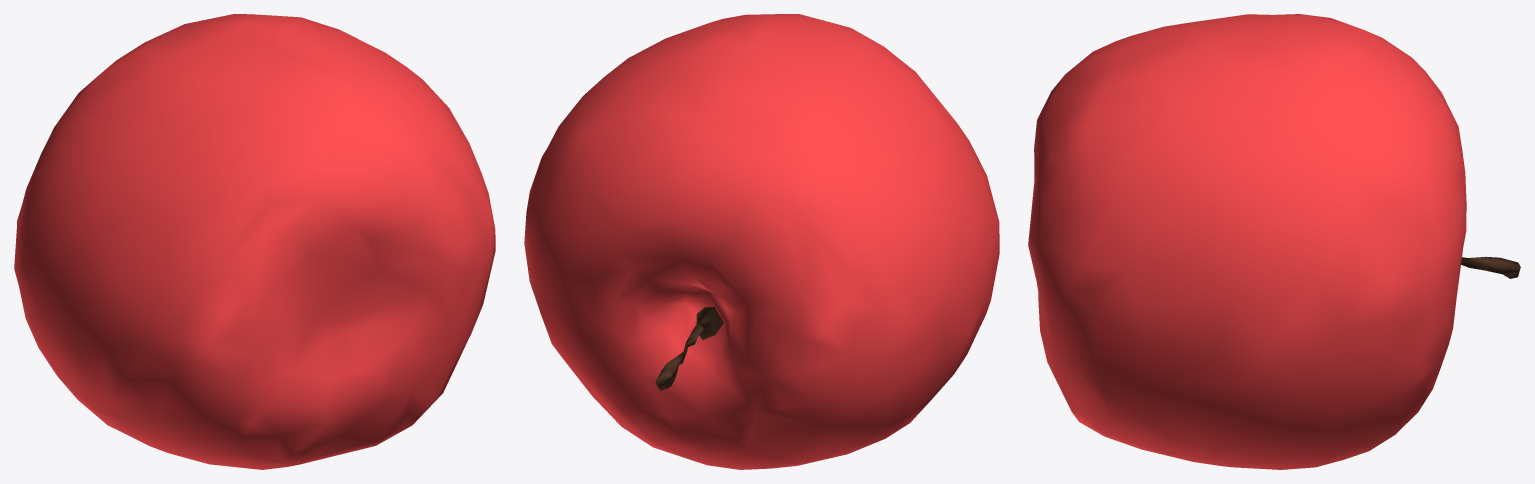
The model's file is ToyObject_198.fbx.
The picture shows the model from 3 angles, left to right: view 1: azimuth 30°, elevation 25°; view 2: azimuth 150°, elevation 25°; view 3: azimuth 270°, elevation 25°; orthographic projection. The views are drawn at different scales.
Parts seen in each view (by area): view 1: Object.013; view 2: Object.013; view 3: Object.013.
Part boxes in pixels (box(x1,y1,x2,y2)): Object.013: box(14, 14, 495, 469); Object.013: box(524, 14, 999, 469); Object.013: box(1028, 14, 1520, 469).
Size of the model in its own units: 0.1332 by 0.126 by 0.1358.
